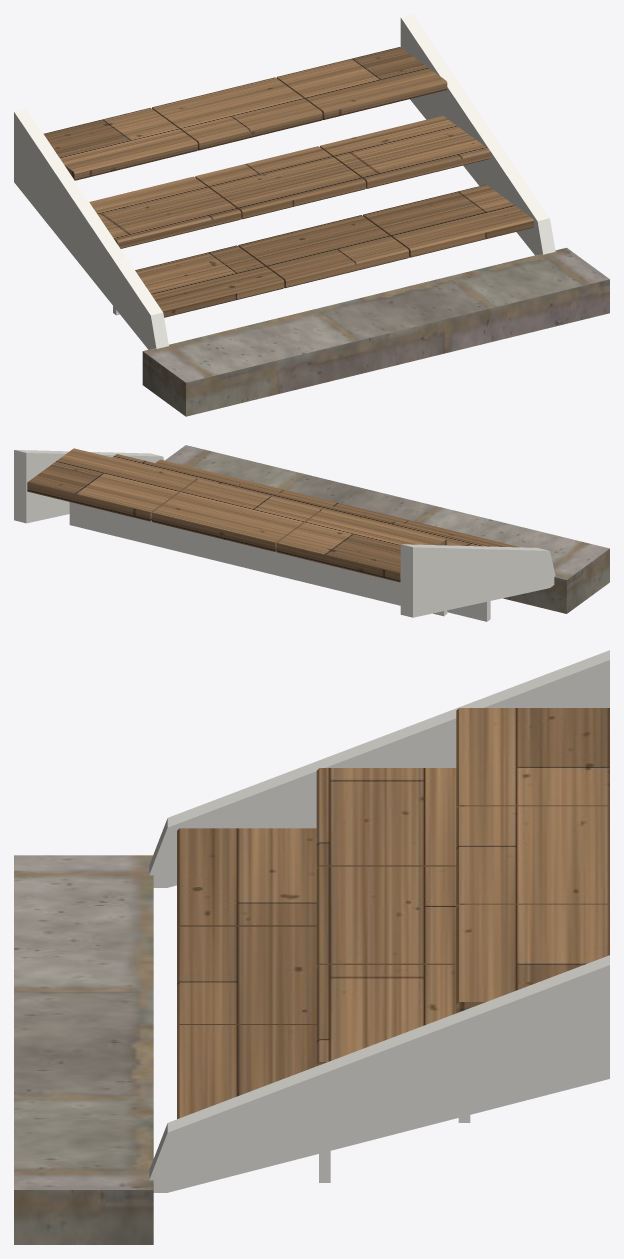
The model's file is porch_steps.glb.
3 renders of one model, top to bottom at view 1: azimuth 30°, elevation 25°; view 2: azimuth 150°, elevation 25°; view 3: azimuth 270°, elevation 25°, orthographic. The views are drawn at different scales.
Parts seen in each view (by area): view 1: porch_steps_deck, porch_steps_stone, porch_steps_trim; view 2: porch_steps_deck, porch_steps_trim, porch_steps_stone; view 3: porch_steps_deck, porch_steps_trim, porch_steps_stone.
Boxes of the visible parts, x1=… form: porch_steps_deck: x1=43, y1=47, x2=533, y2=317; porch_steps_stone: x1=142, y1=247, x2=609, y2=416; porch_steps_trim: x1=14, y1=14, x2=555, y2=349; porch_steps_deck: x1=27, y1=448, x2=519, y2=582; porch_steps_trim: x1=14, y1=450, x2=555, y2=621; porch_steps_stone: x1=165, y1=445, x2=609, y2=613; porch_steps_deck: x1=177, y1=708, x2=609, y2=1118; porch_steps_trim: x1=149, y1=650, x2=609, y2=1192; porch_steps_stone: x1=14, y1=855, x2=153, y2=1244.
Size of the model in its own units: 1.7 by 0.64 by 1.28.
3 materials, 2 textured.
